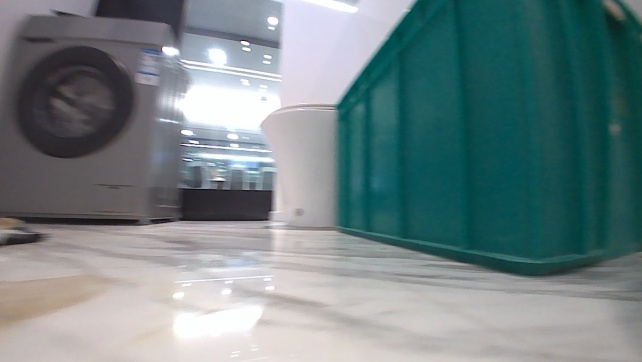toilet: (257, 99, 338, 231)
washing_machine: (0, 10, 191, 226)
